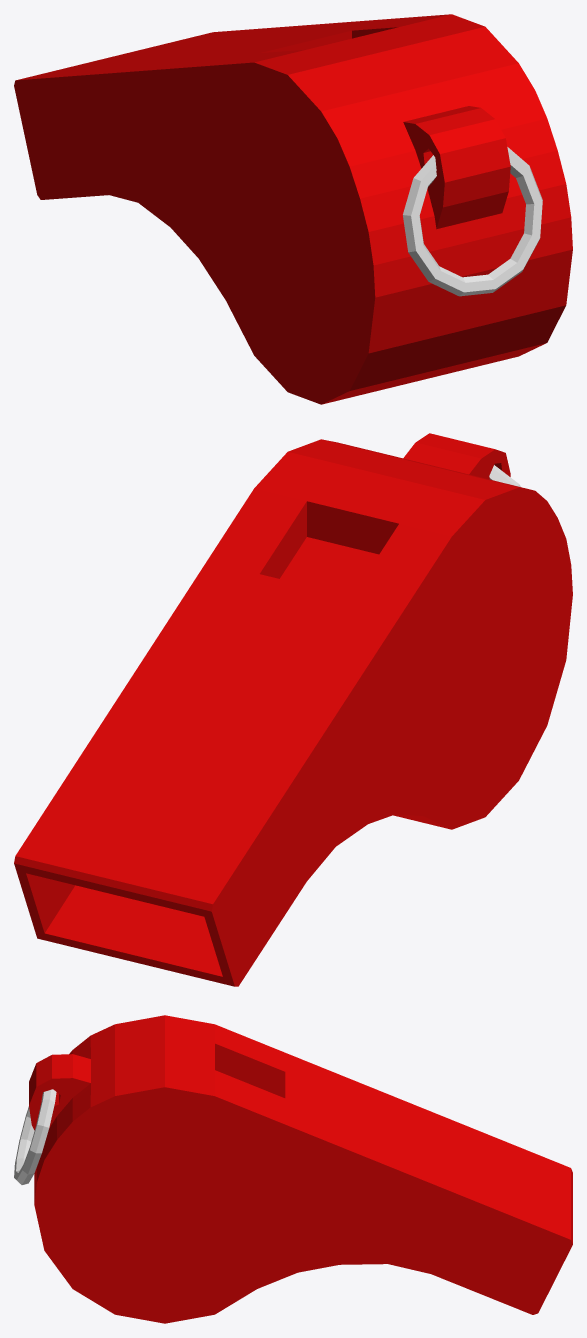
File: Whistle.fbx
3 renders of one model, top to bottom at view 1: azimuth 30°, elevation 25°; view 2: azimuth 150°, elevation 25°; view 3: azimuth 270°, elevation 25°, orthographic. The views are drawn at different scales.
Parts seen in each view (by area): view 1: Whistle, obruc; view 2: Whistle; view 3: Whistle, obruc.
Part boxes in pixels (<box>): Whistle: <box>14,14,572,404</box>; obruc: <box>403,147,542,296</box>; Whistle: <box>14,433,572,986</box>; Whistle: <box>29,1015,572,1323</box>; obruc: <box>14,1089,56,1184</box>.
Bounding box in the file's own units: 6.14 × 9.42 × 20.17.
